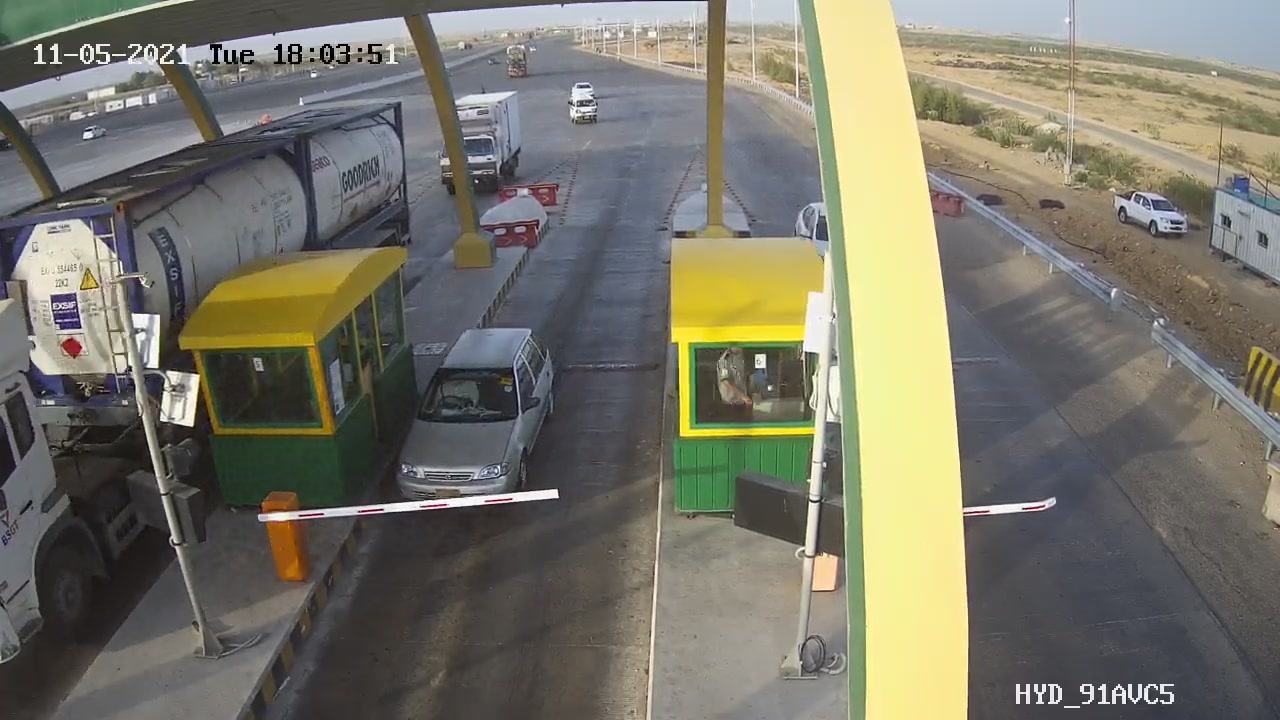F1: (382, 312, 579, 514)
